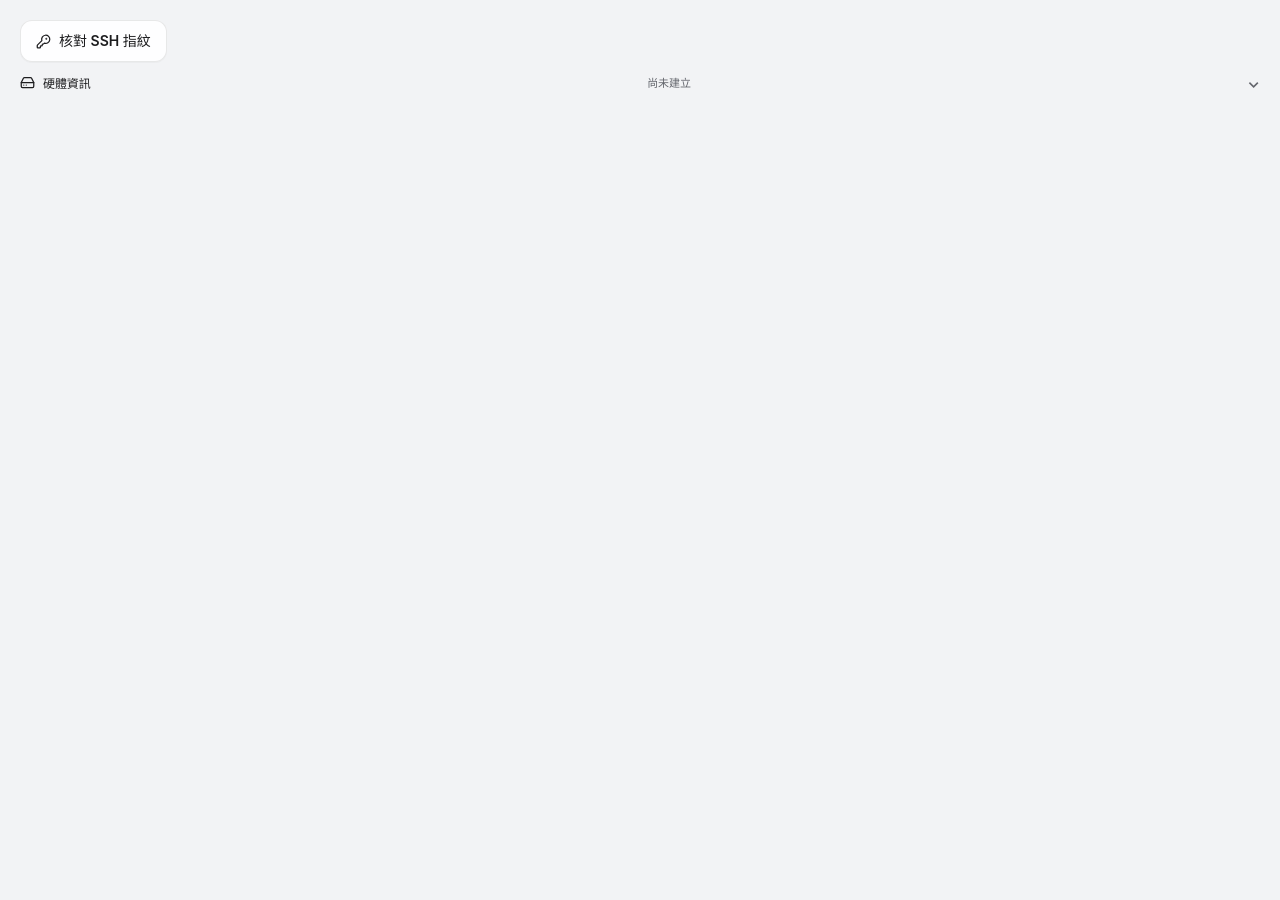
Scenario: requires fingerprint acknowledgement before trusting a new SSH key
The image size is (1280, 900).
Later steps or results of the test are not shown.
Click the button "核對 SSH 指紋": (93, 41) left=20, top=20, right=167, bottom=62
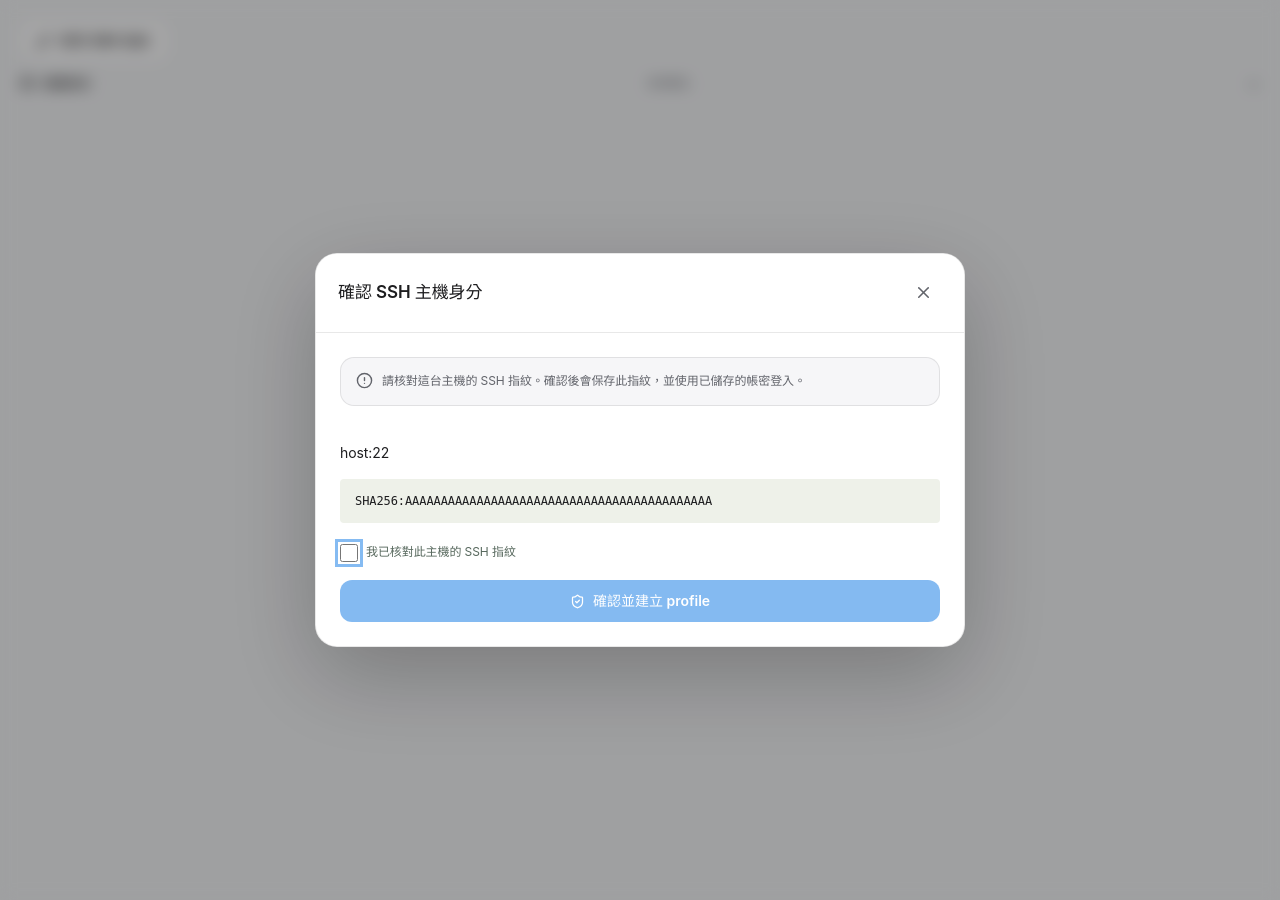
Now the button "確認並建立 profile" is disabled, box left=340, top=580, right=940, bottom=622
